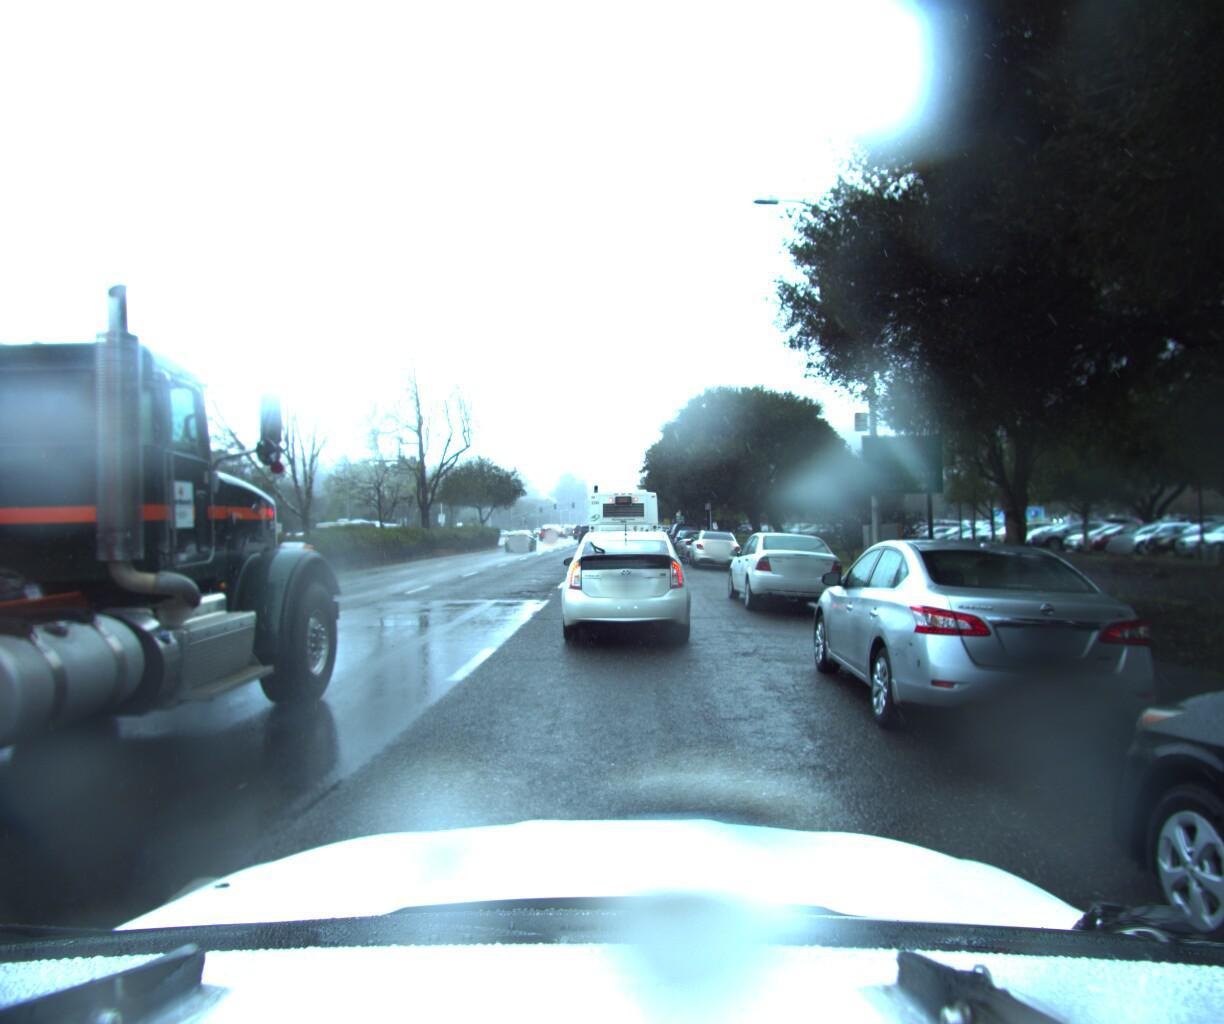bus: (584, 476, 666, 571)
car: (785, 532, 1204, 773), (554, 523, 695, 652), (715, 526, 849, 615), (679, 525, 743, 569), (671, 528, 718, 562), (500, 529, 536, 553)
other_vehicle: (311, 514, 373, 552)
